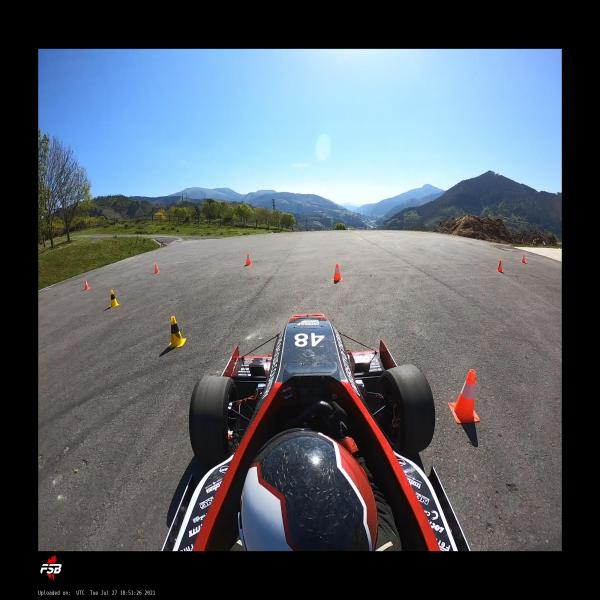orange_cone: (448, 369, 480, 424), (332, 264, 342, 280), (496, 259, 503, 273), (246, 253, 252, 266), (83, 280, 90, 290), (154, 263, 160, 274), (520, 254, 526, 264)
yellow_cone: (168, 316, 186, 348), (109, 290, 120, 308)
